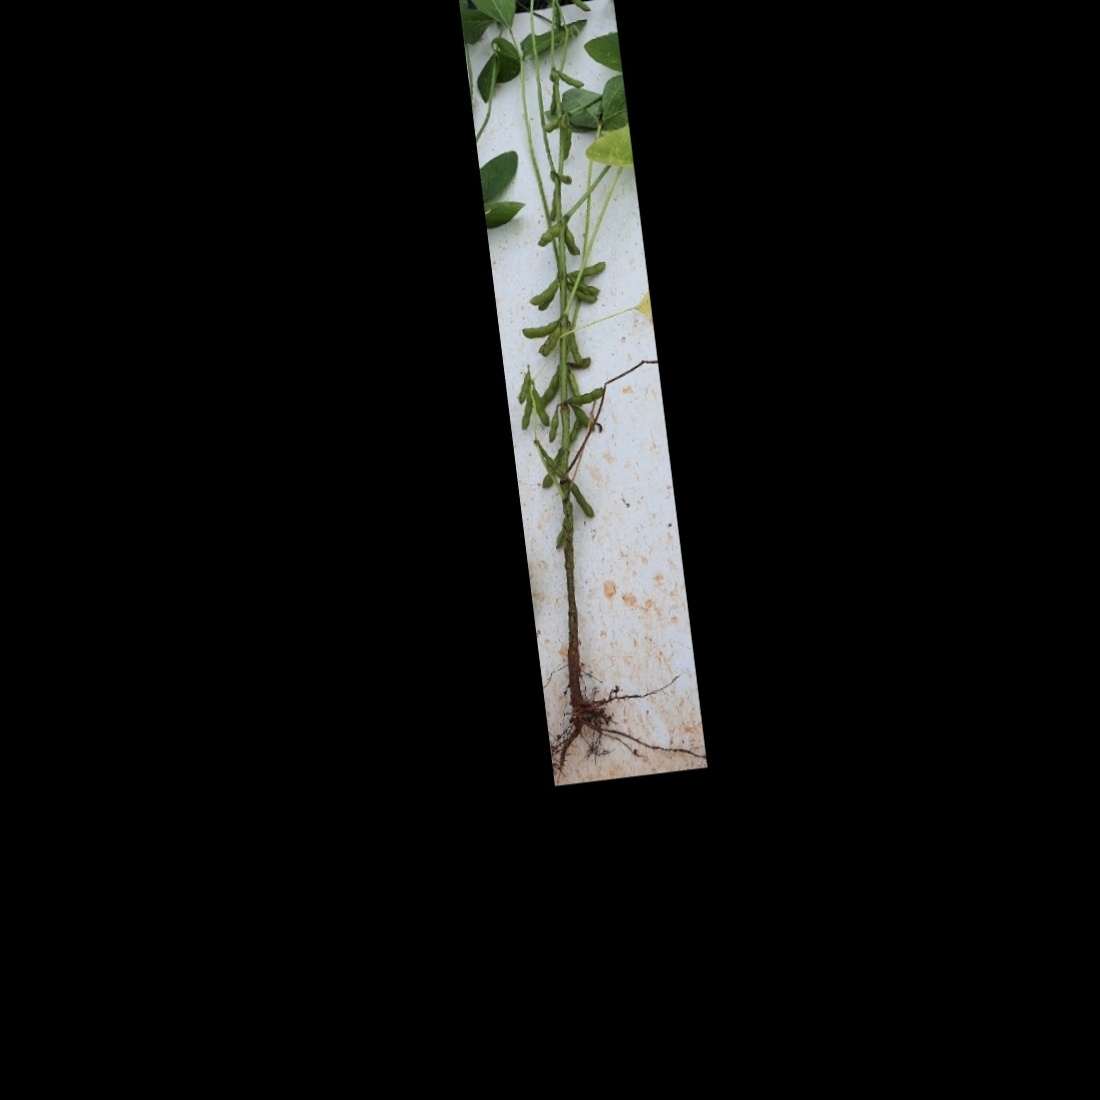pod: (568, 474, 596, 523), (536, 367, 566, 406), (520, 316, 563, 340), (516, 386, 538, 432), (565, 385, 606, 409), (530, 385, 552, 429), (547, 516, 572, 553), (513, 364, 534, 403), (572, 405, 597, 432), (545, 408, 564, 442), (557, 68, 586, 91), (568, 0, 594, 16), (537, 0, 554, 1)
soy: (470, 0, 688, 750)
